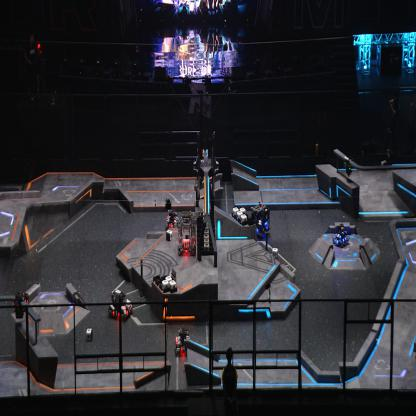car: (177, 209, 196, 256), (108, 288, 133, 320), (250, 202, 270, 238), (173, 326, 192, 355), (331, 222, 350, 247), (165, 206, 180, 232)
